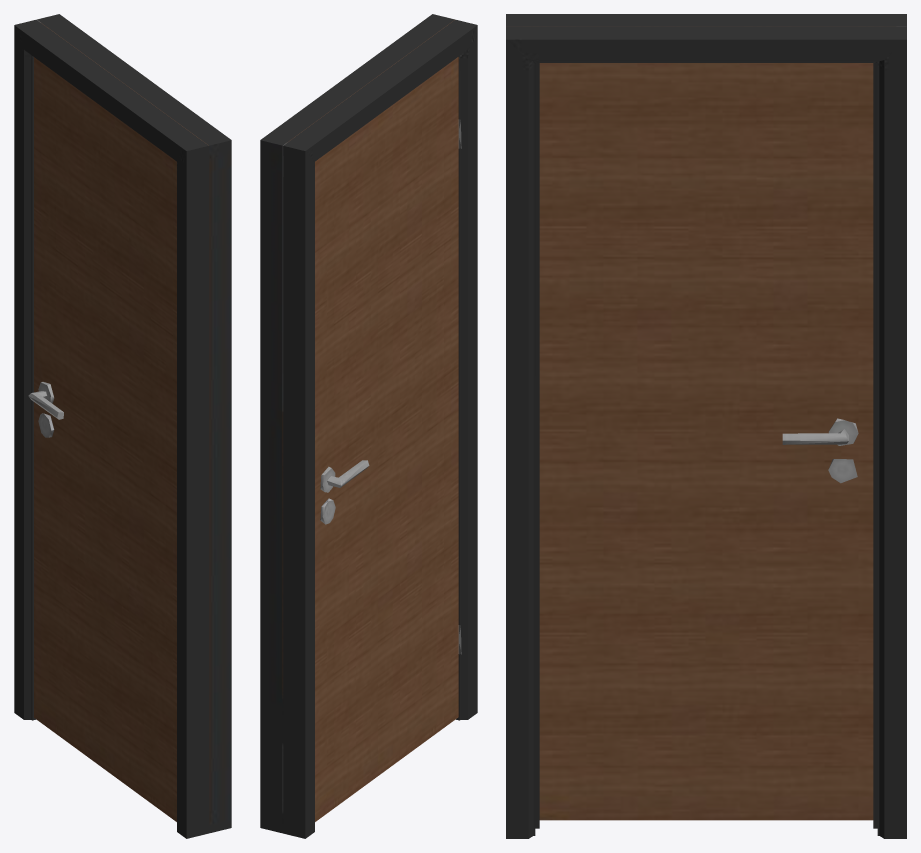
File: Door0013.obj
The picture shows the model from 3 angles, left to right: view 1: azimuth 30°, elevation 25°; view 2: azimuth 150°, elevation 25°; view 3: azimuth 270°, elevation 25°; orthographic projection. The views are drawn at different scales.
Size of the model in its own units: 0.181 by 2.12 by 0.964.
Materials: 1 (1 with a texture image).
